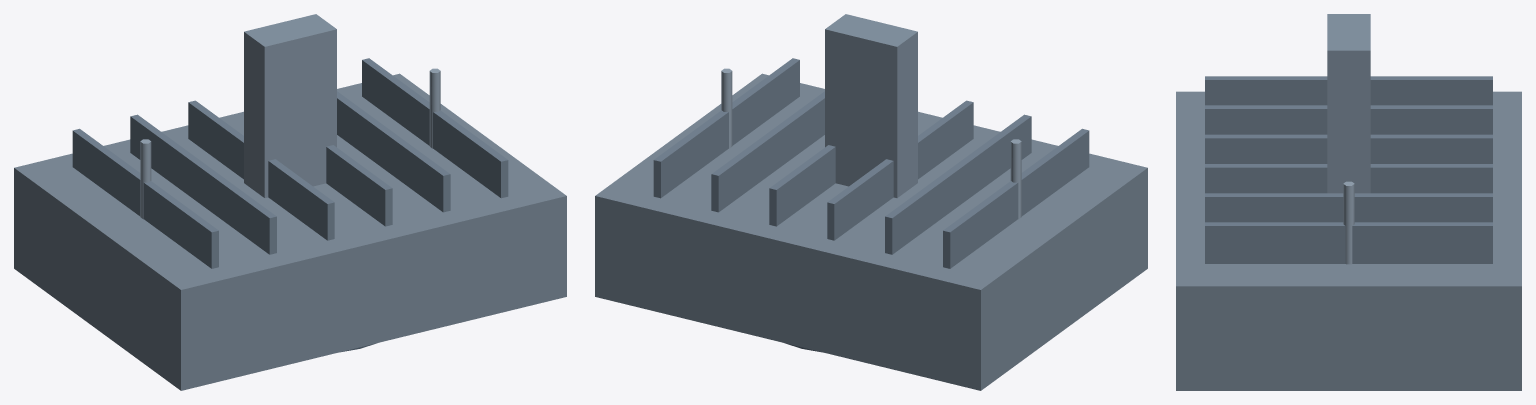
File: anchor-node.glb
3 renders of one model, left to right at view 1: azimuth 30°, elevation 25°; view 2: azimuth 150°, elevation 25°; view 3: azimuth 270°, elevation 25°, orthographic. The views are drawn at different scales.
Bounding box in the file's own units: 1.6 × 1.09 × 1.2.
